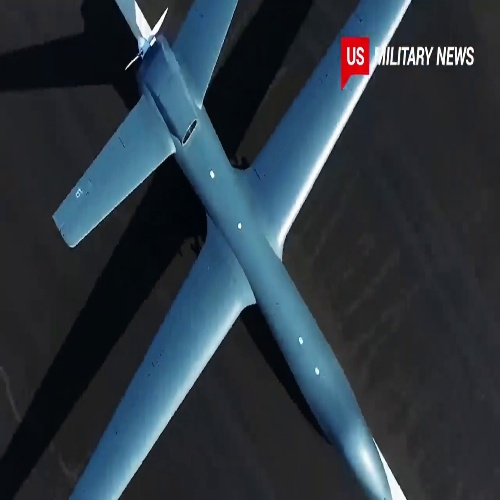uav704: (46, 1, 417, 500)
